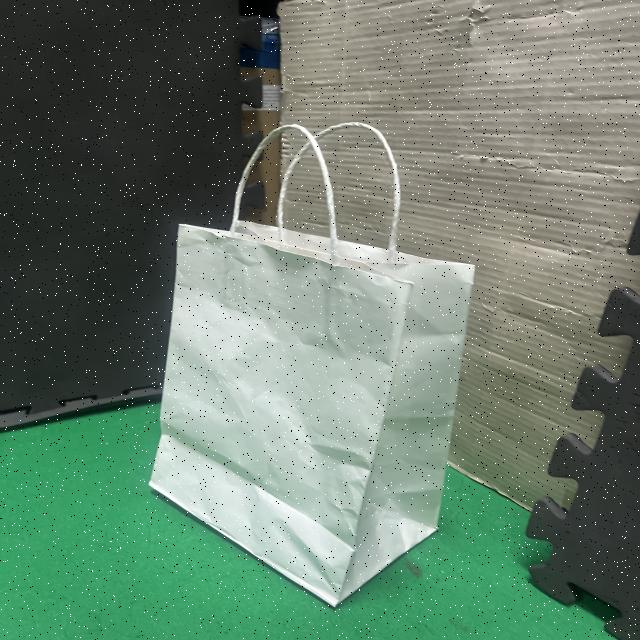paper bag: (112, 106, 508, 619)
